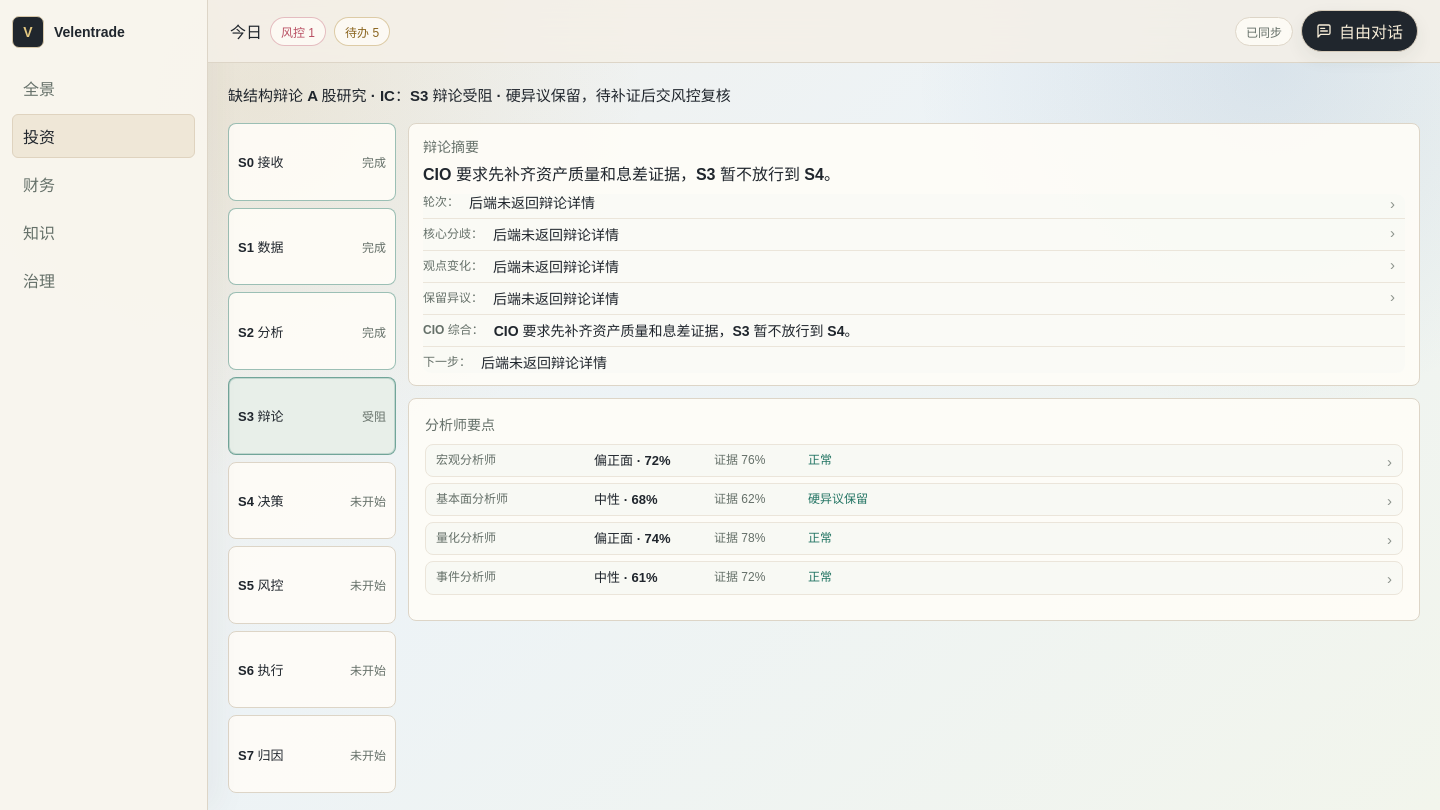
it: WI-004 workbench interactions › does not invent S3 detail text when the backend omits structured debate fields
Click the button "核心分歧： 后端未返回辩论详情": (447, 234) [423, 218, 1405, 245]
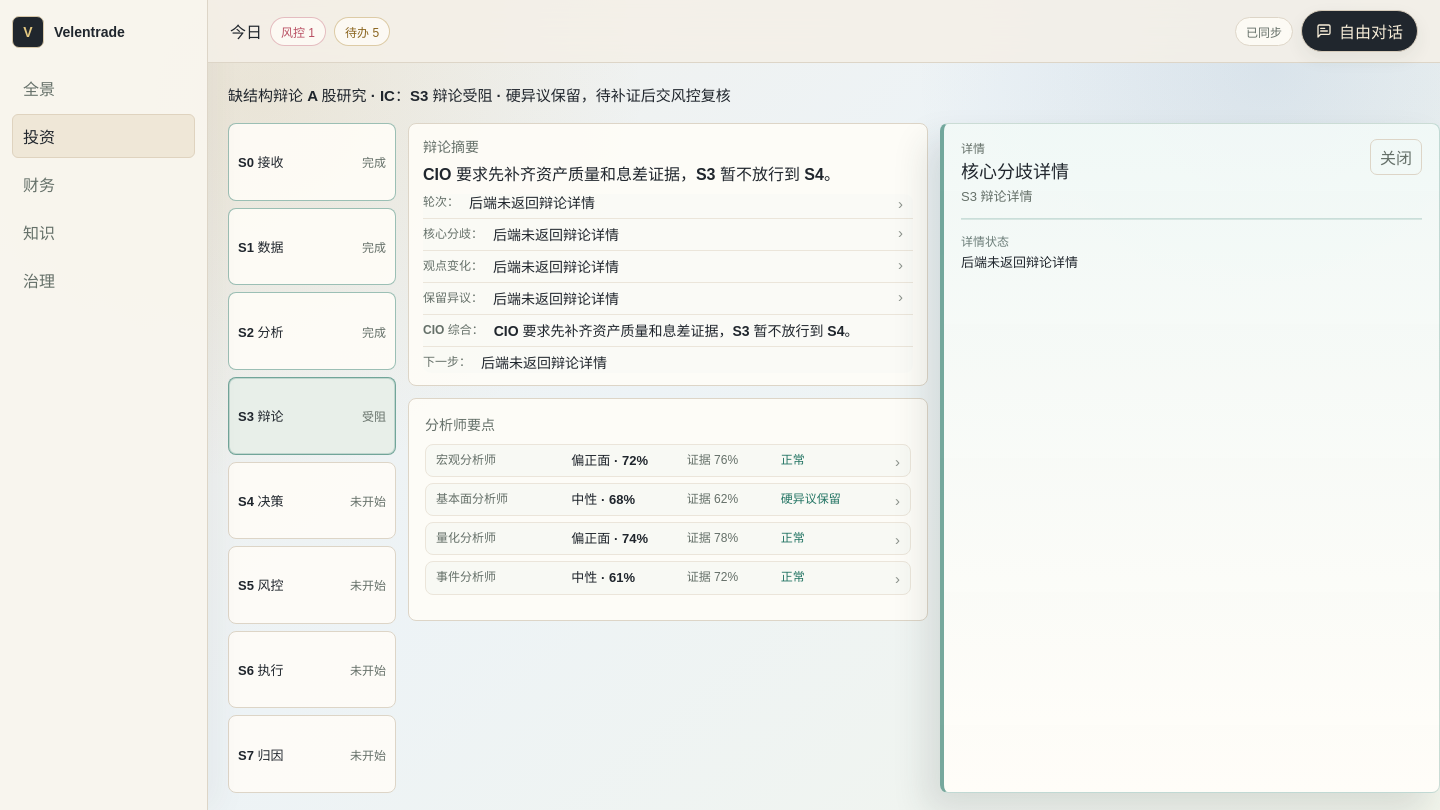
Expected: the element with class "dossier-detail-drawer" shows "核心分歧详情", [961, 162, 1069, 182]
Expected: the element with class "dossier-detail-drawer" shows "后端未返回辩论详情", [961, 255, 1078, 270]
